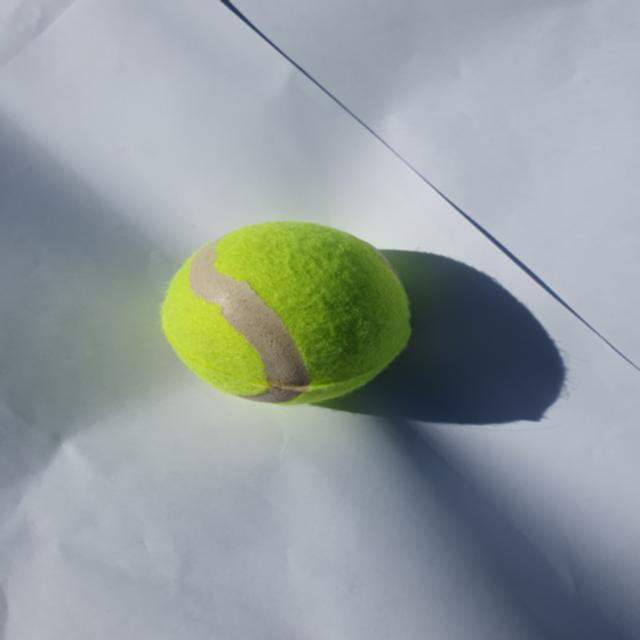green: (162, 221, 410, 406)
